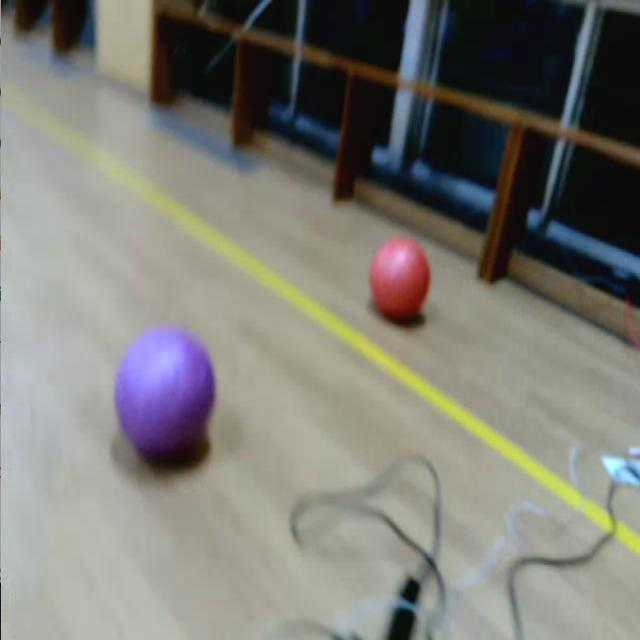purple_ball: (113, 323, 215, 458)
red_ball: (372, 234, 432, 314)
